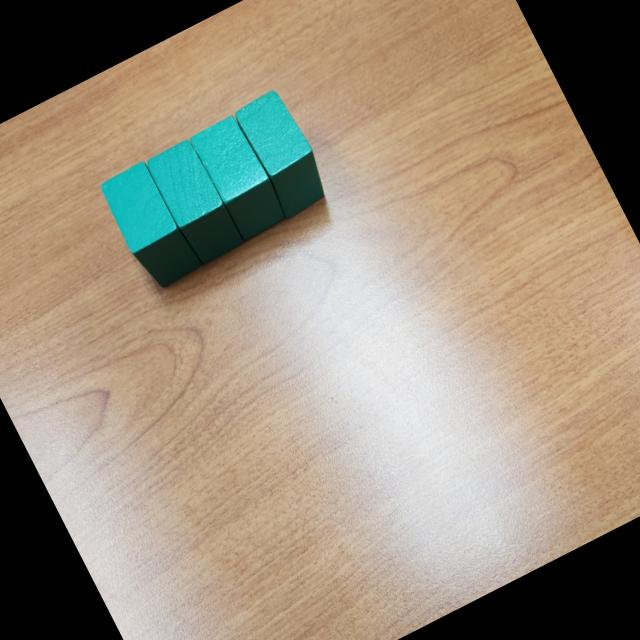green: (96, 156, 206, 294), (230, 85, 336, 220), (187, 111, 293, 246), (144, 136, 245, 268)
